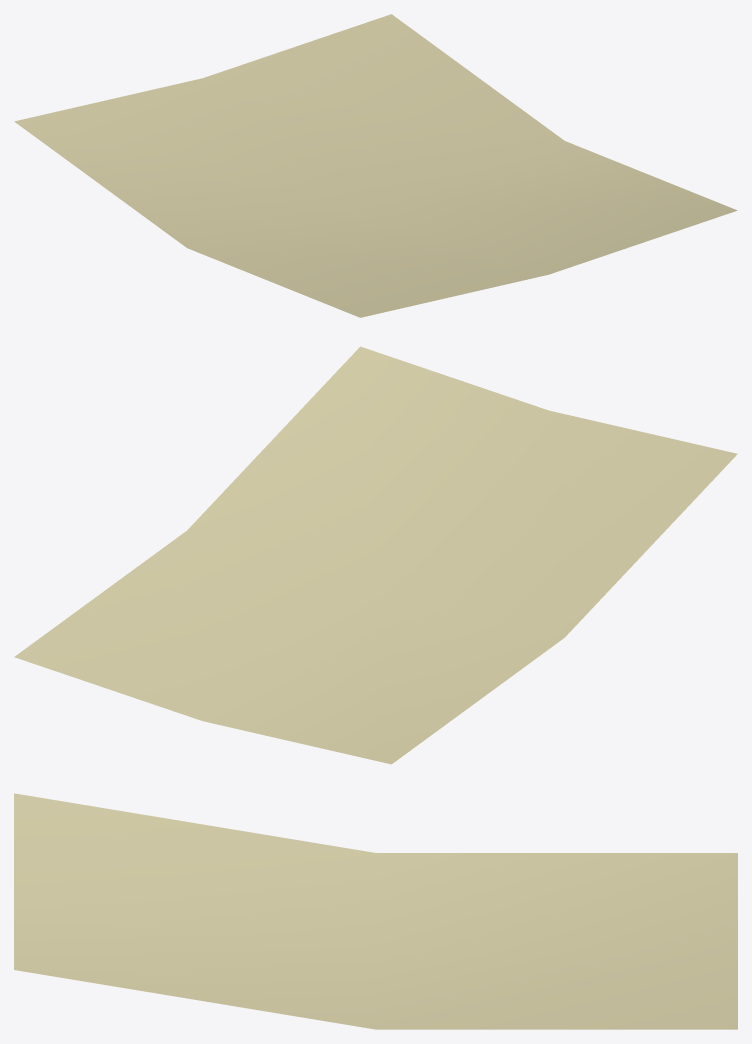
The picture shows the model from 3 angles, top to bottom: view 1: azimuth 30°, elevation 25°; view 2: azimuth 150°, elevation 25°; view 3: azimuth 270°, elevation 25°; orthographic projection. The views are drawn at different scales.
Visible parts, largest first — view 1: Object18; view 2: Object18; view 3: Object18.
Boxes of the visible parts, x1,y1,x2,y2 form: Object18: (14,14,737,317); Object18: (14,346,737,764); Object18: (14,793,737,1029).
Bounding box in the file's own units: 18317 × 3482 × 29102.
